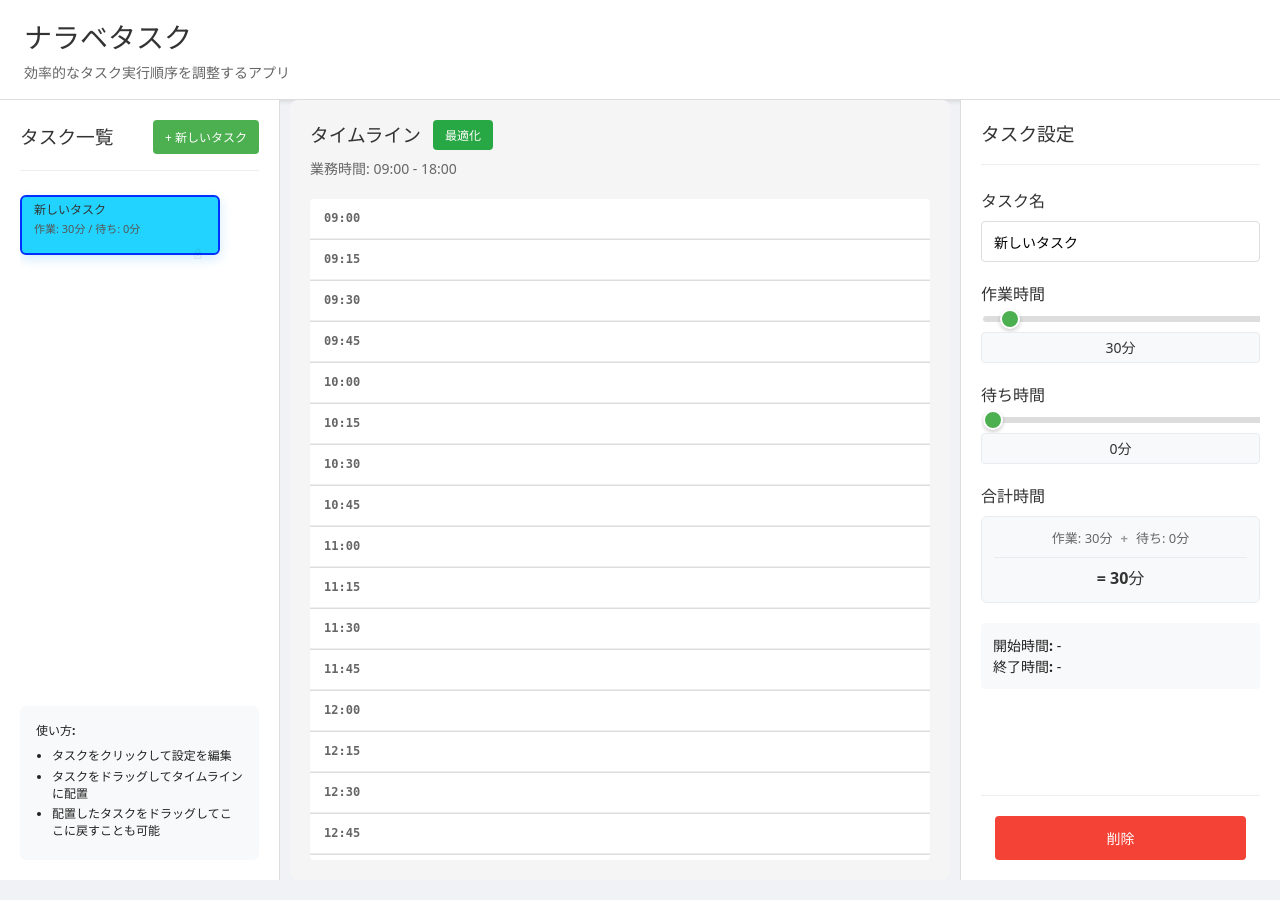
Scenario: アプリ - タスク作成時の選択 › タイムラインで他のタスクが既に選択されている場合でも新しく作成されたタスクを選択する
Note: Create first task
Click the button "+ 新しいタスク". click: click(206, 137)
box: top-left (153, 120), bottom-right (259, 154)
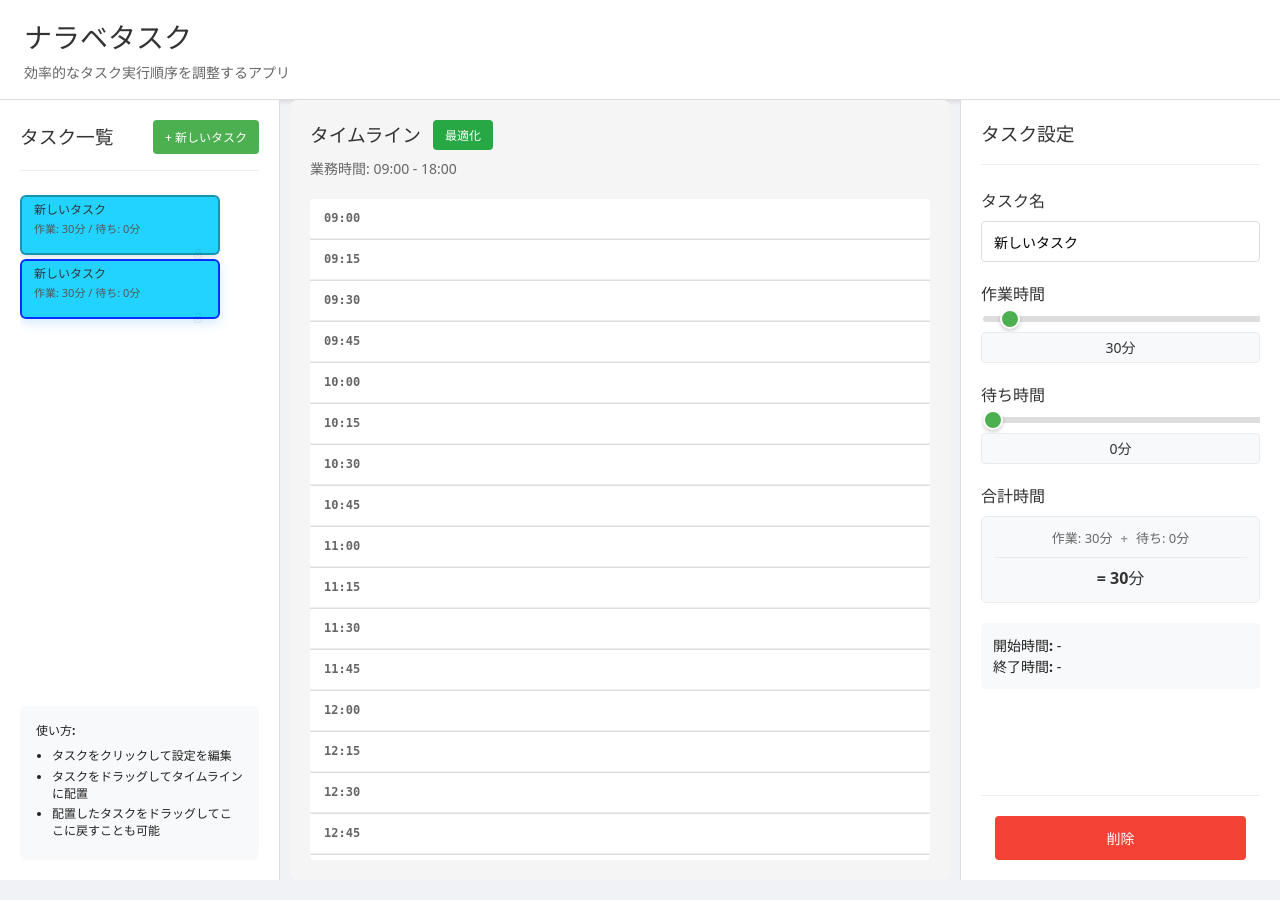
Check: the heading "タスク設定" is shown, box top-left (981, 120), bottom-right (1074, 148)
Note: Change the first task name to distinguish it
Replace the text in the field showing "新しいタスク" with "First Task". click: (1120, 242)
box: top-left (981, 221), bottom-right (1260, 262)
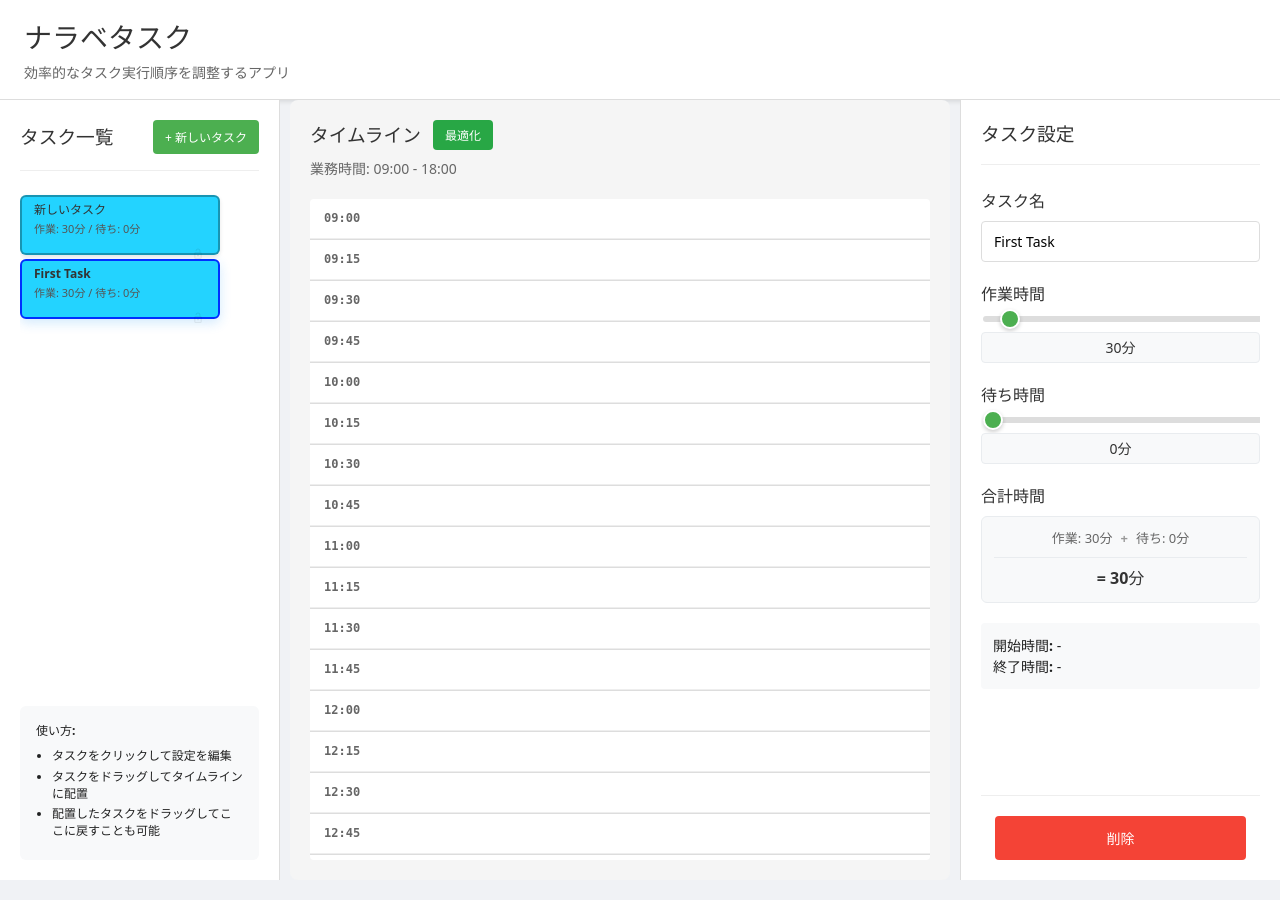
Note: Now create a second task
Click the button "+ 新しいタスク". click: click(206, 137)
box: top-left (153, 120), bottom-right (259, 154)
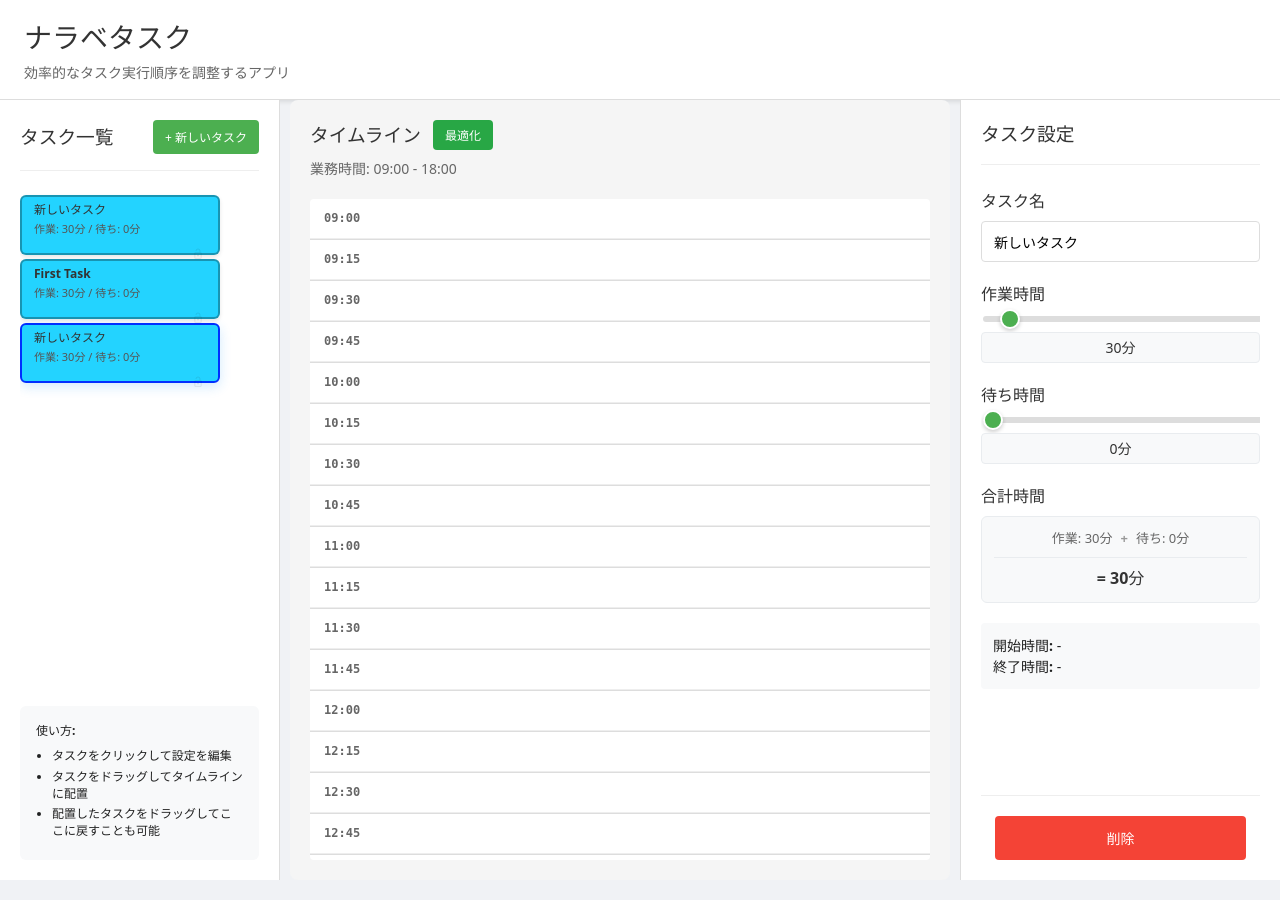
Check: the heading "タスク設定" is shown, box top-left (981, 120), bottom-right (1074, 148)
Check: the field showing "新しいタスク" is shown, box top-left (981, 221), bottom-right (1260, 262)
